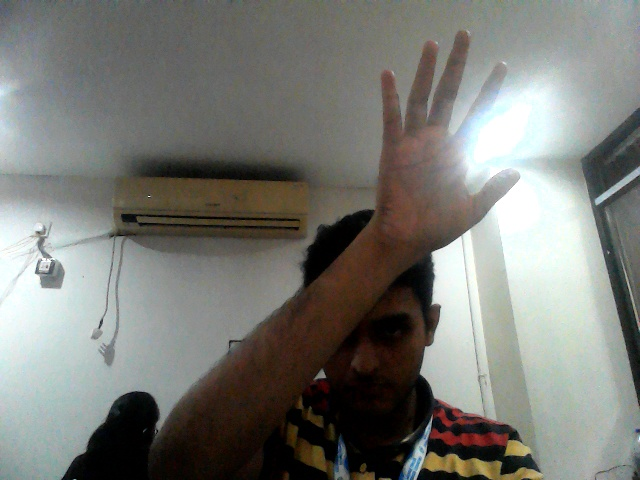palm: (364, 22, 527, 256)
